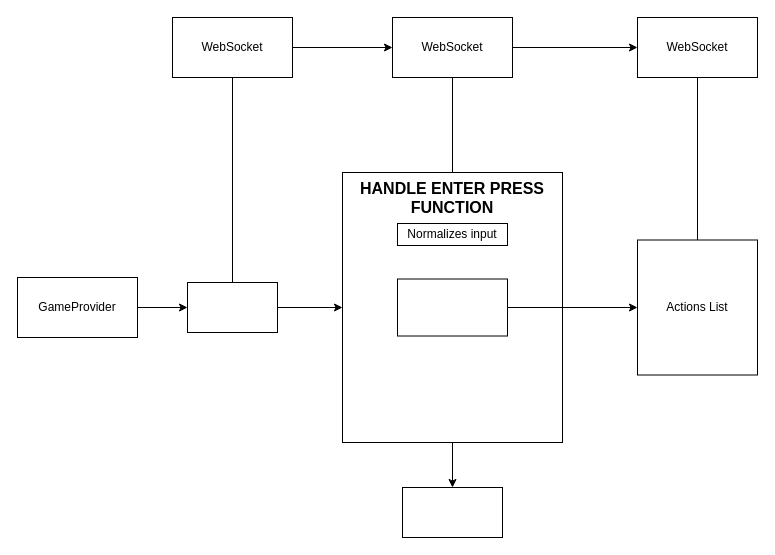
This 775x555 diagram has some shape labels left out. Each missing label, with the centre of its shape:
Command Line (player's input): (232,307)
Command Object (all states): (452,307)
Displays player dialogue: (452,512)
